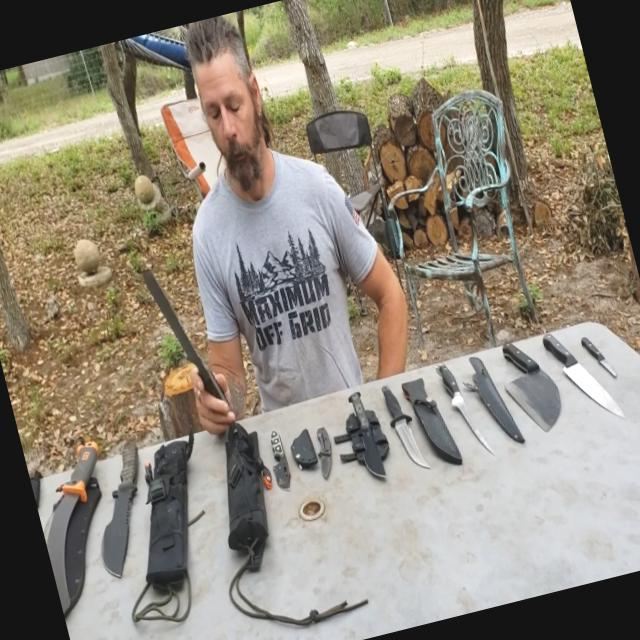knife: (22, 431, 129, 627), (127, 224, 228, 403), (65, 423, 167, 577), (485, 321, 573, 446), (541, 320, 630, 438), (250, 390, 318, 542), (426, 356, 500, 468), (338, 377, 404, 488), (376, 384, 424, 486), (301, 410, 349, 492), (574, 313, 622, 388)
